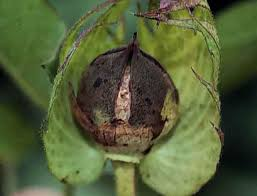damaged_cotton: (59, 5, 212, 189)
